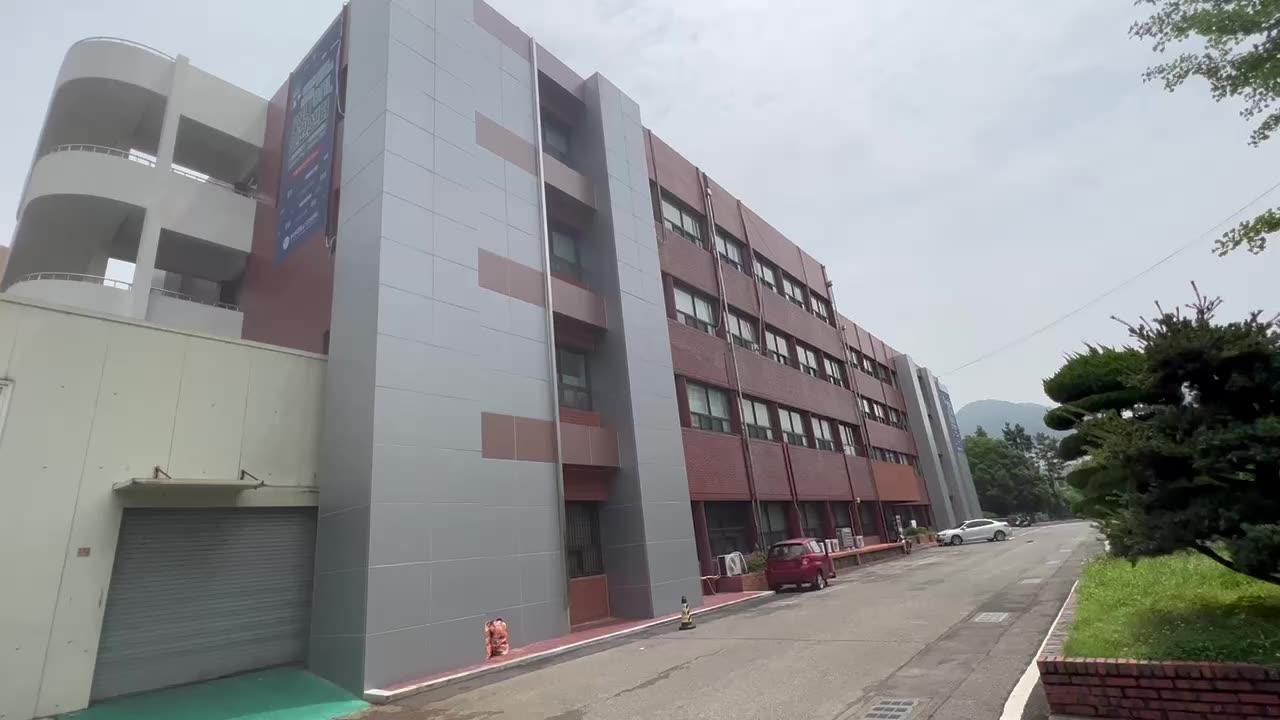building: (336, 20, 856, 529)
